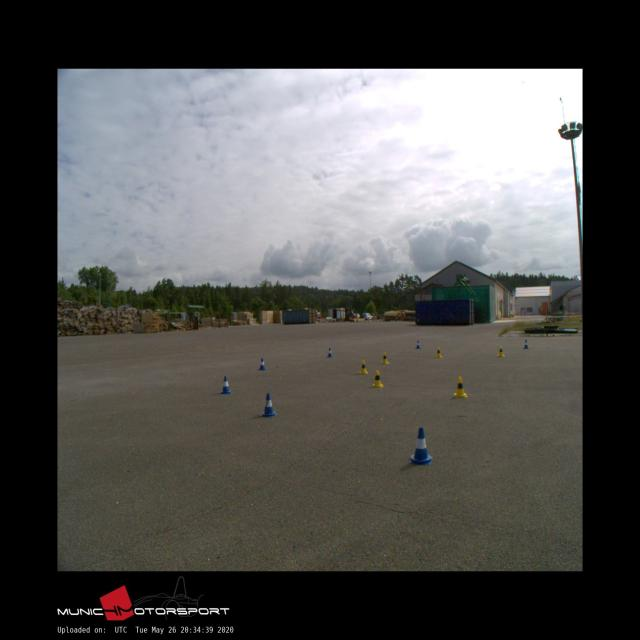blue_cone: (408, 427, 432, 464), (260, 393, 278, 416), (220, 376, 232, 393), (258, 358, 266, 370), (327, 348, 333, 358), (523, 340, 529, 349), (416, 340, 420, 349)
yellow_cone: (454, 376, 466, 397), (372, 370, 382, 388), (359, 359, 367, 373), (381, 352, 388, 364), (497, 346, 504, 356), (435, 347, 441, 358)
